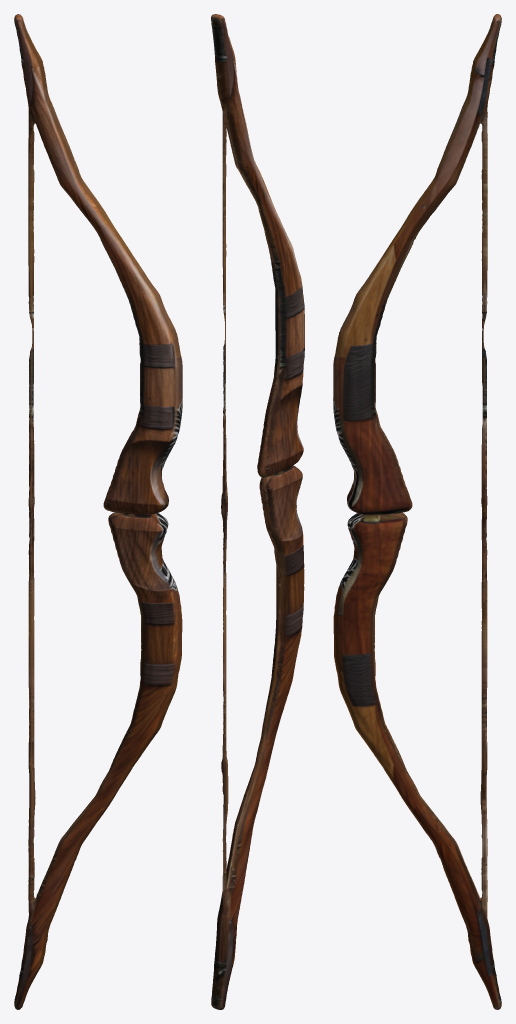
File: bow.glb
3 renders of one model, left to right at view 1: azimuth 90°, elevation 25°; view 2: azimuth 150°, elevation 25°; view 3: azimuth 270°, elevation 25°, orthographic.
Size of the model in its own units: 0.064 by 2 by 0.3084.
1 material, 1 textured.
